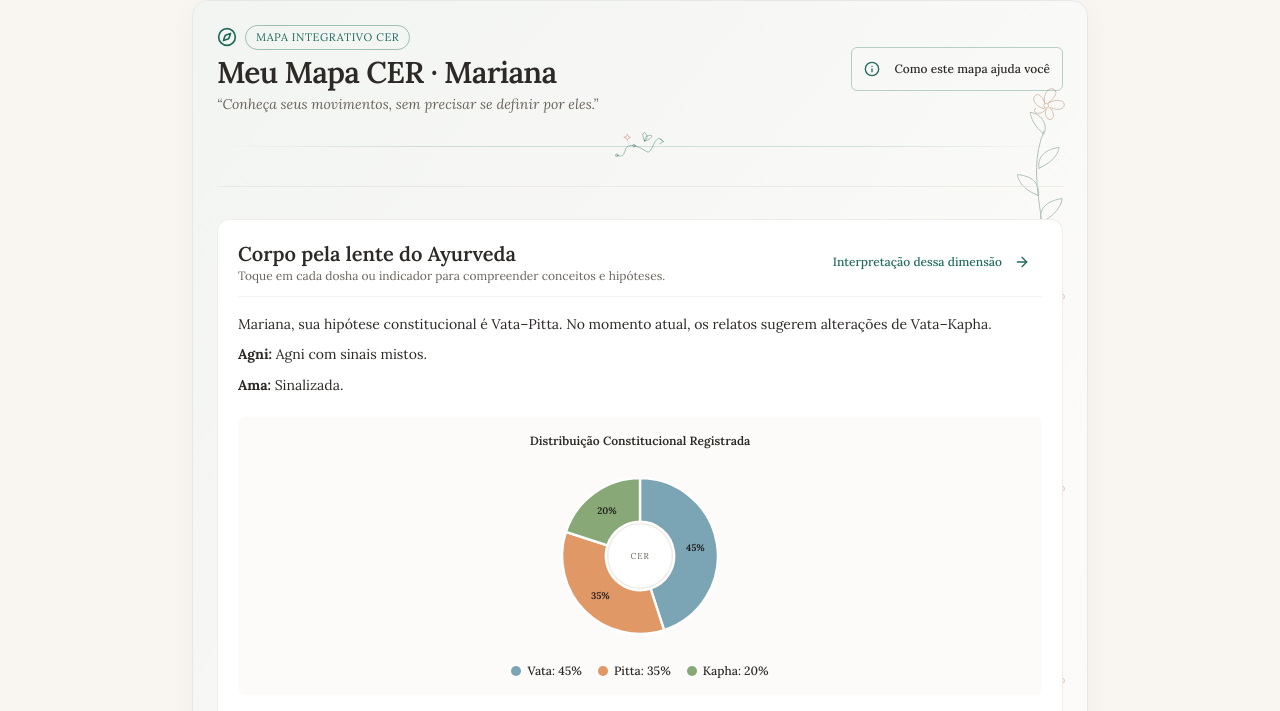
Scenario: Mapa CER: percurso de leitura e teclado › Corpo oferece explicação e detalhes sob escolha, sem valores técnicos crus
Step 1. Click the button with aria-label "Interpretação dessa dimensão: Corpo" → (931, 262), box left=821, top=240, right=1042, bottom=284
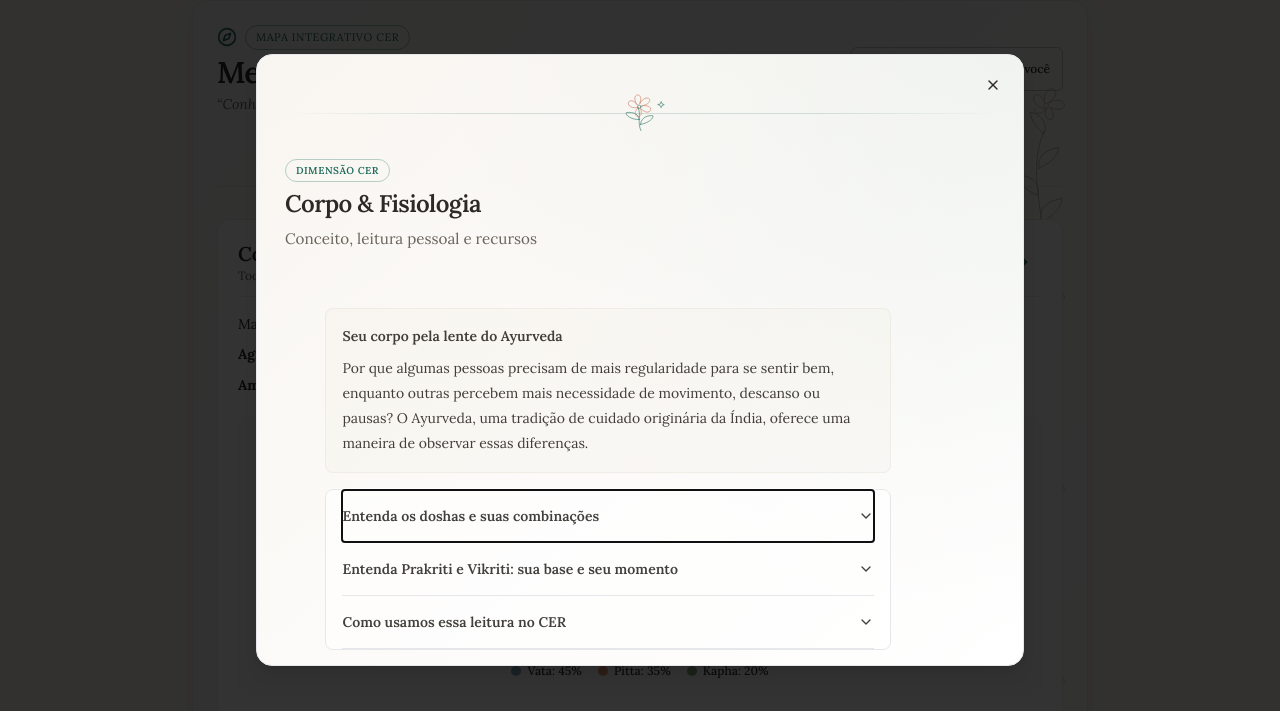
Step 2. Click the button "Entenda os doshas e suas combinações" → (471, 516), box left=342, top=490, right=874, bottom=542
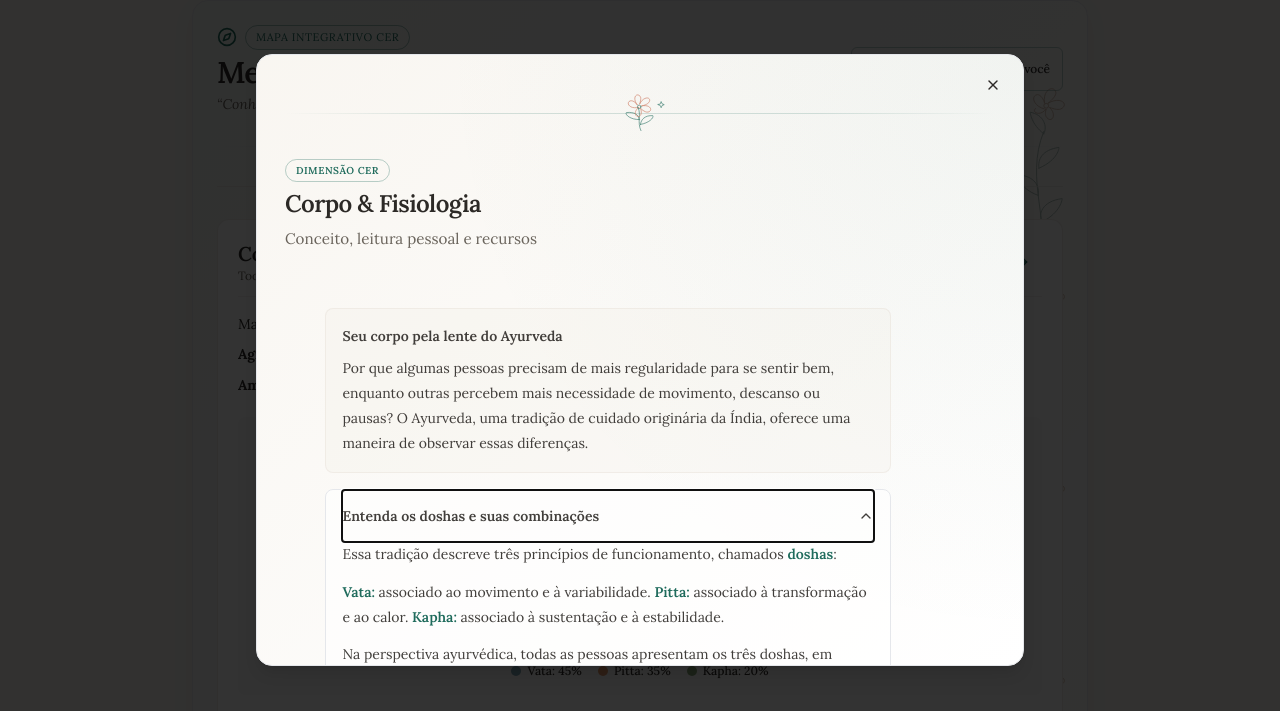
expect the button "Entenda os doshas e suas combinações" is expanded: met, box left=342, top=490, right=874, bottom=542
